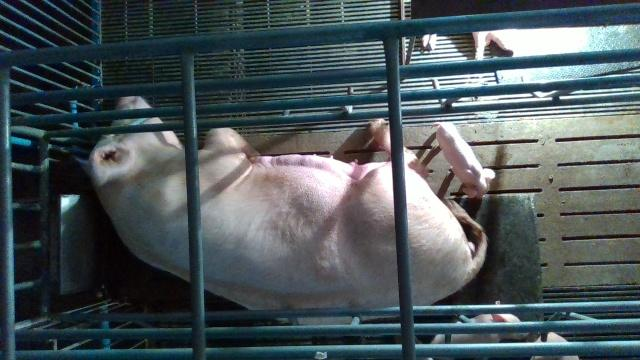piglet: (429, 121, 496, 198), (430, 313, 529, 360)
sow-sleep: (73, 95, 487, 327)
